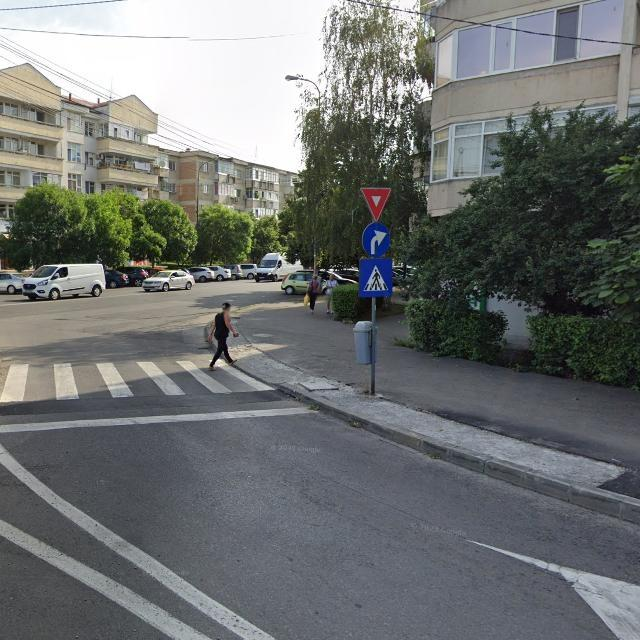info_crosswalk: (359, 259, 394, 297)
prio_give_way: (360, 187, 392, 222)
